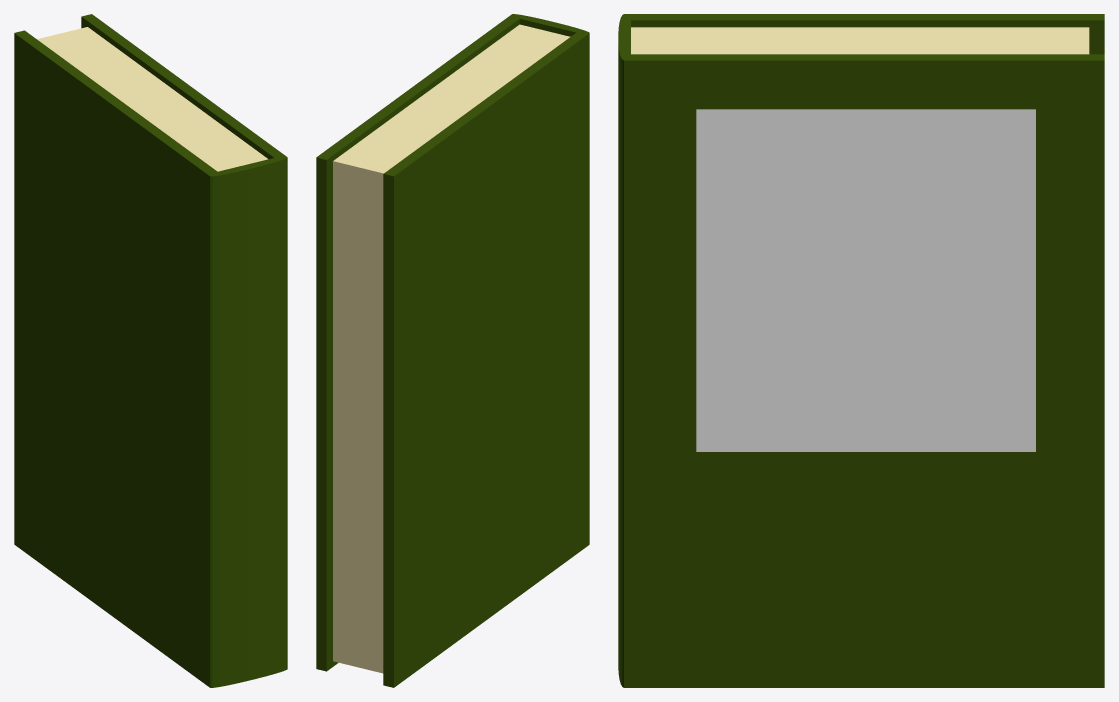
Rendered from Book2 1.fbx.
3 views of the same model, side by side, from view 1: azimuth 30°, elevation 25°; view 2: azimuth 150°, elevation 25°; view 3: azimuth 270°, elevation 25° (orthographic). The views are drawn at different scales.
Visible parts, largest first — view 1: Cube.002, Cube.003, Cube, Cube.001; view 2: Cube.002, Cube, Cube.001, Cube.003; view 3: Cube.001, Plane, Cube, Cube.003, Cube.002.
Boxes of the visible parts, left/top/right/bottom form: Cube.002: left=14, top=30, right=218, bottom=686; Cube.003: left=208, top=156, right=287, bottom=687; Cube: left=37, top=27, right=267, bottom=171; Cube.001: left=81, top=14, right=285, bottom=159; Cube.002: left=383, top=31, right=588, bottom=687; Cube: left=333, top=24, right=570, bottom=673; Cube.001: left=316, top=15, right=520, bottom=671; Cube.003: left=511, top=14, right=589, bottom=545; Cube.001: left=627, top=54, right=1104, bottom=687; Plane: left=696, top=109, right=1035, bottom=451; Cube: left=631, top=27, right=1089, bottom=54; Cube.003: left=618, top=14, right=630, bottom=687; Cube.002: left=627, top=14, right=1104, bottom=54.
Bounding box in the file's own units: 7.2 × 45 × 31.61.
